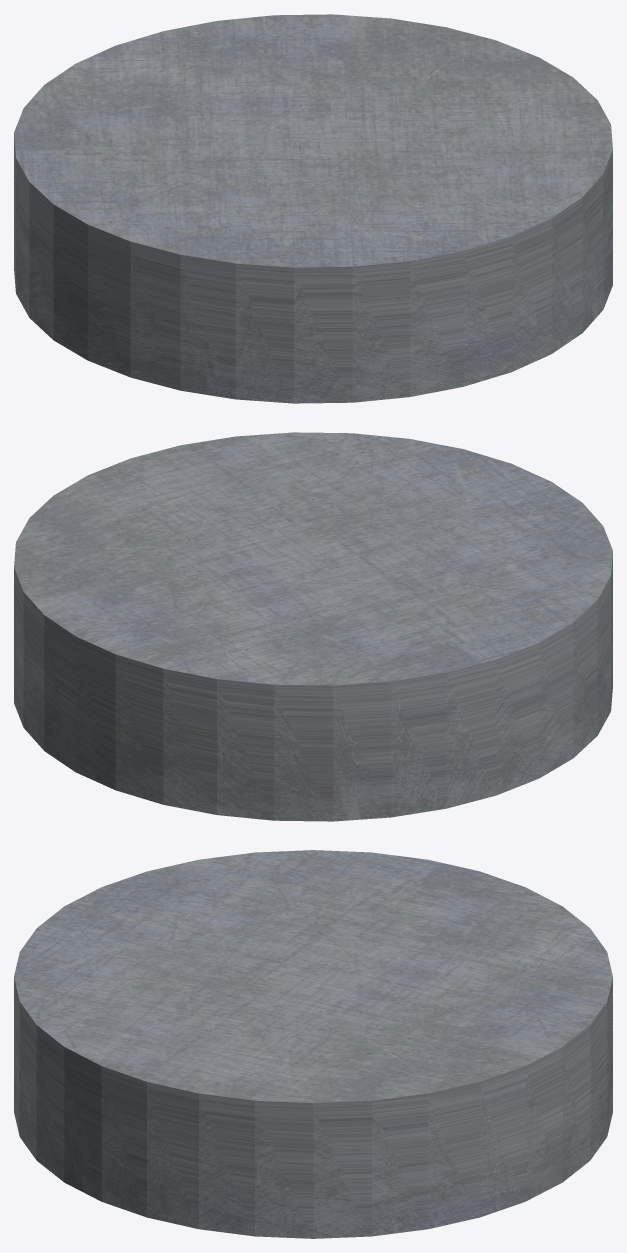
The model's file is LampForShop.obj.
3 views of the same model, one above another, from view 1: azimuth 30°, elevation 25°; view 2: azimuth 150°, elevation 25°; view 3: azimuth 270°, elevation 25° (orthographic).
Visible parts, largest first — view 1: Cylinder; view 2: Cylinder; view 3: Cylinder.
Boxes of the visible parts, x1,y1,x2,y2 form: Cylinder: [14, 14, 612, 403]; Cylinder: [14, 432, 612, 821]; Cylinder: [14, 850, 612, 1238].
Size of the model in its own units: 1 by 0.25 by 1.
